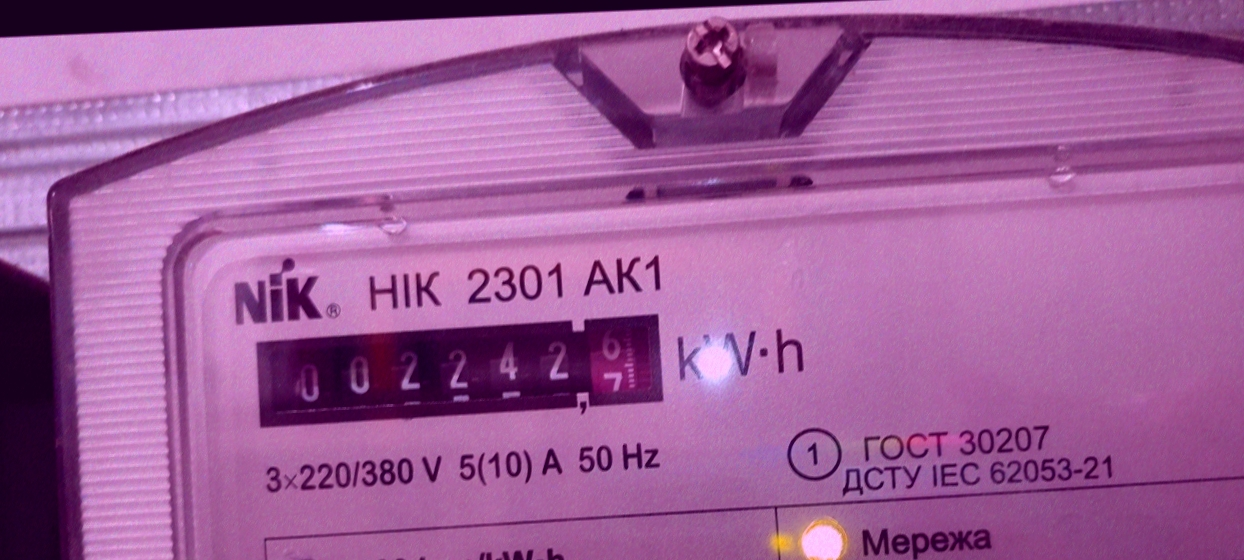0: (345, 351, 372, 395), (396, 347, 422, 391), (297, 358, 321, 404)
2: (445, 345, 471, 390), (544, 337, 570, 382)
4: (494, 338, 519, 382)
6: (598, 327, 623, 361)
7: (600, 369, 624, 392)
screen: (244, 302, 681, 442)
